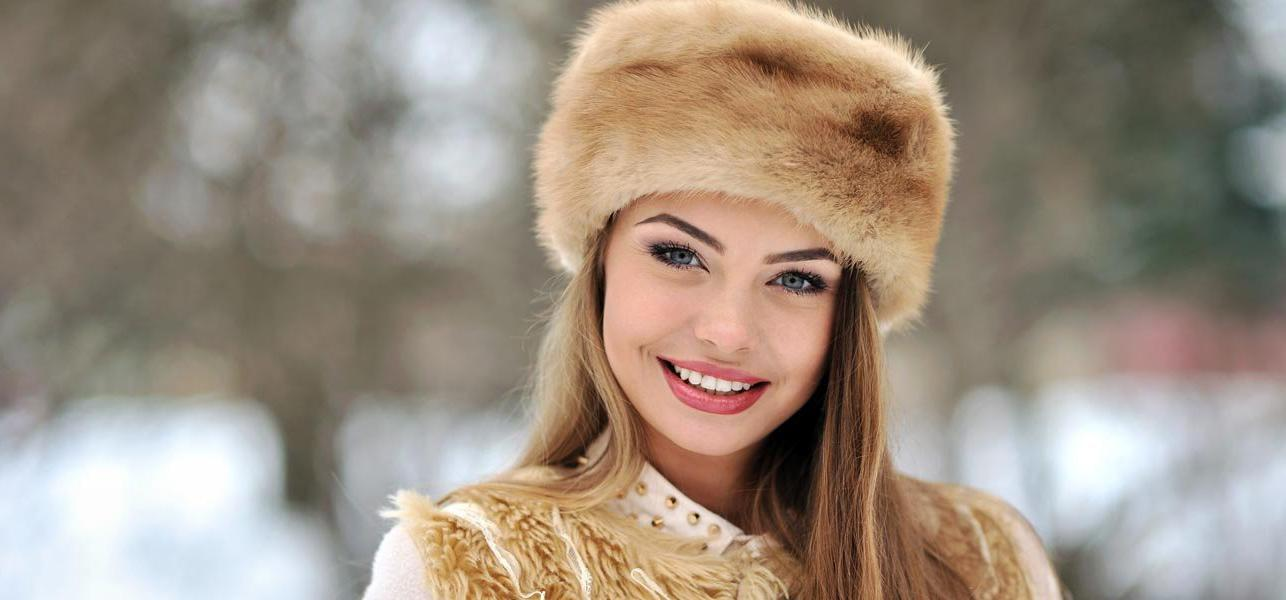Sober: (619, 196, 832, 421)
